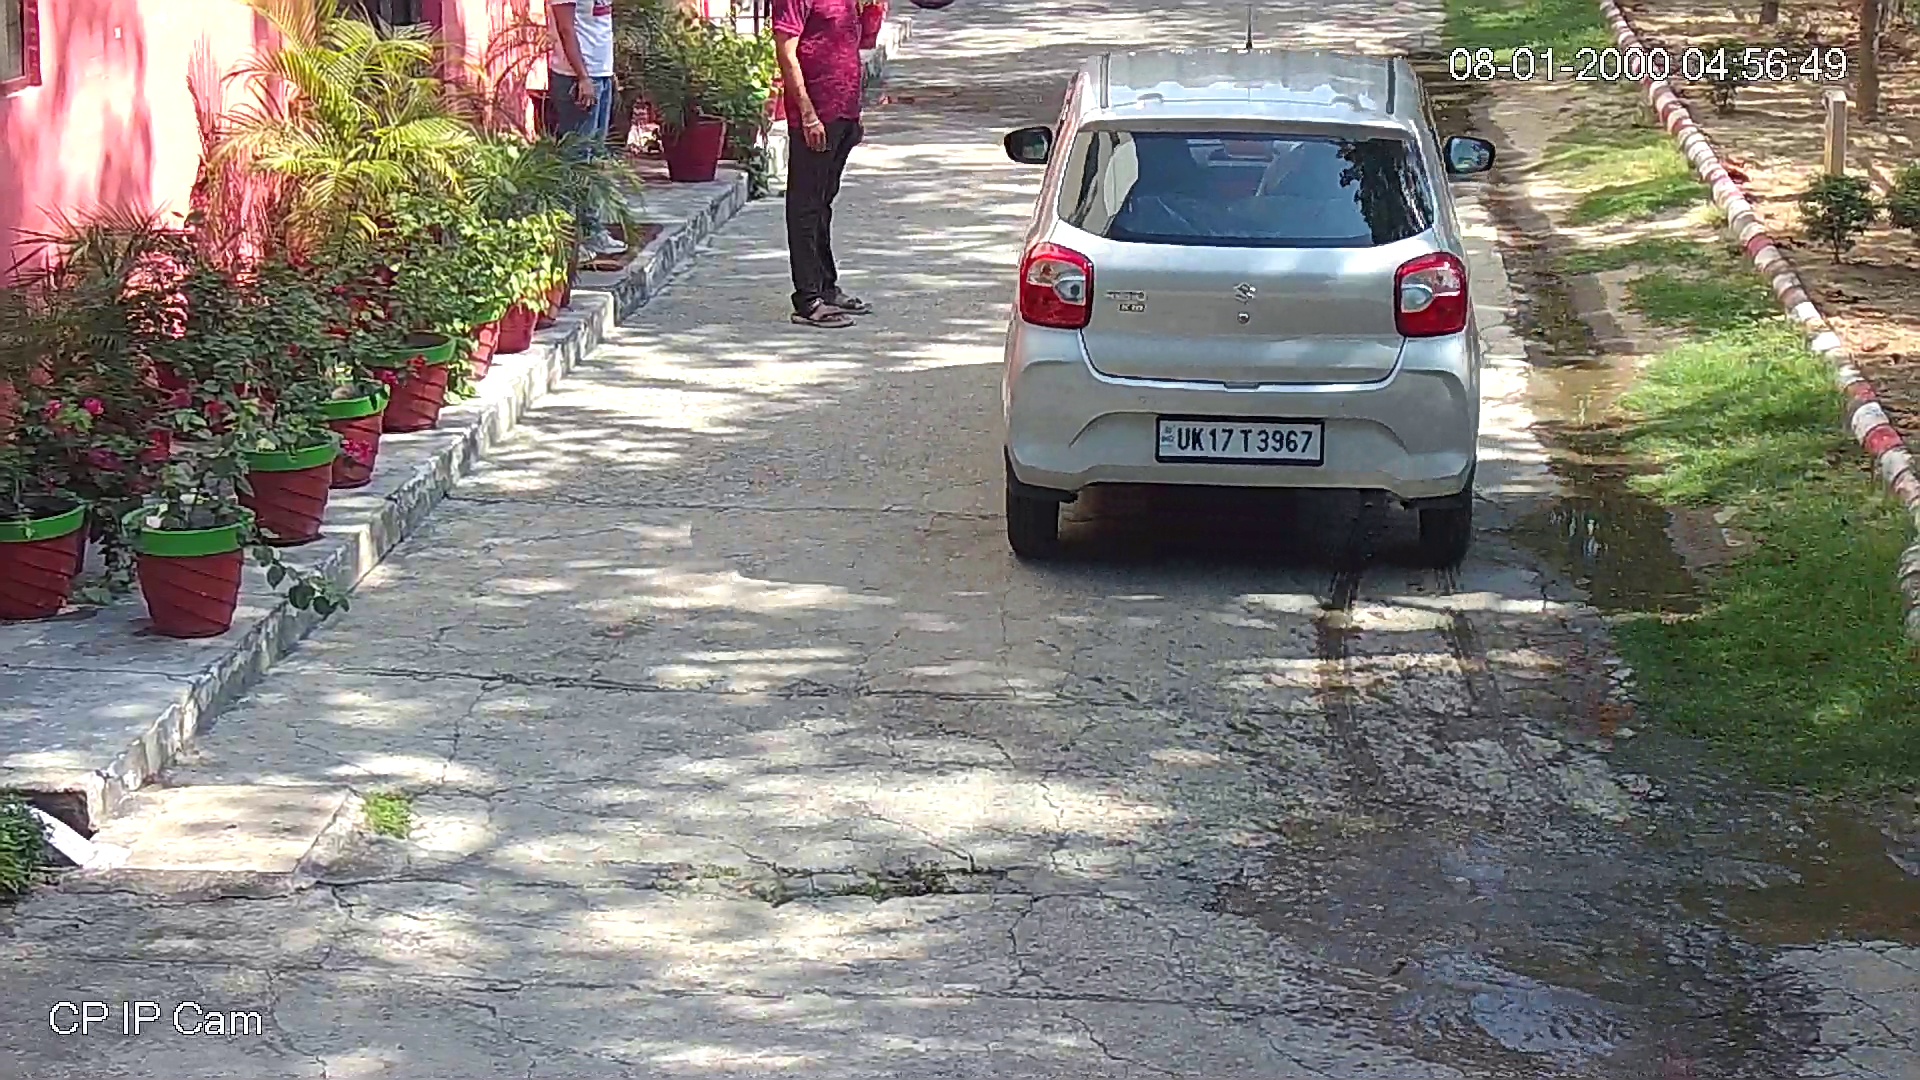plate: (1152, 407, 1328, 466)
